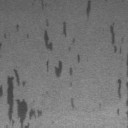red iron: (0, 68, 42, 128), (43, 18, 80, 78), (109, 22, 128, 114), (16, 24, 30, 40), (0, 32, 7, 50), (86, 0, 92, 20), (40, 0, 45, 11), (70, 98, 75, 109)
